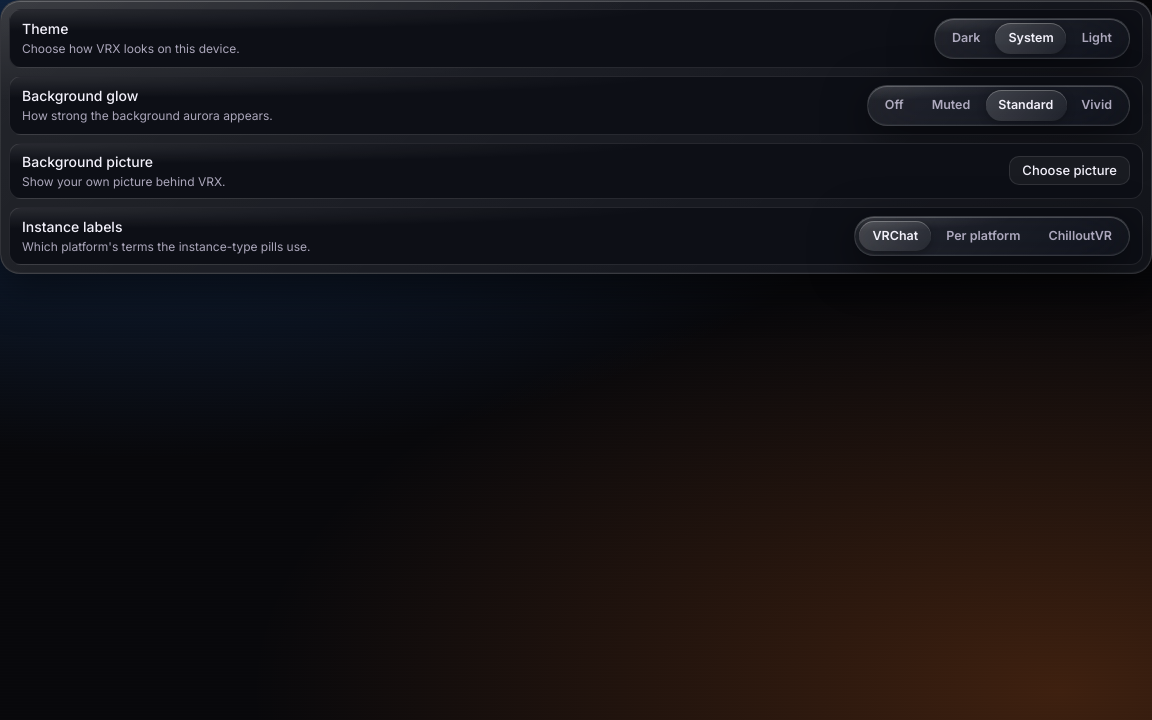
Test: SettingsView — background picture › explains a picture refused as too-tall
This screenshot has width=1152, height=720.
What coordinates should you click on to do the following:
click the button "Choose picture"
I would click on:
 (1070, 171)
Its box is [1009, 156, 1130, 185].
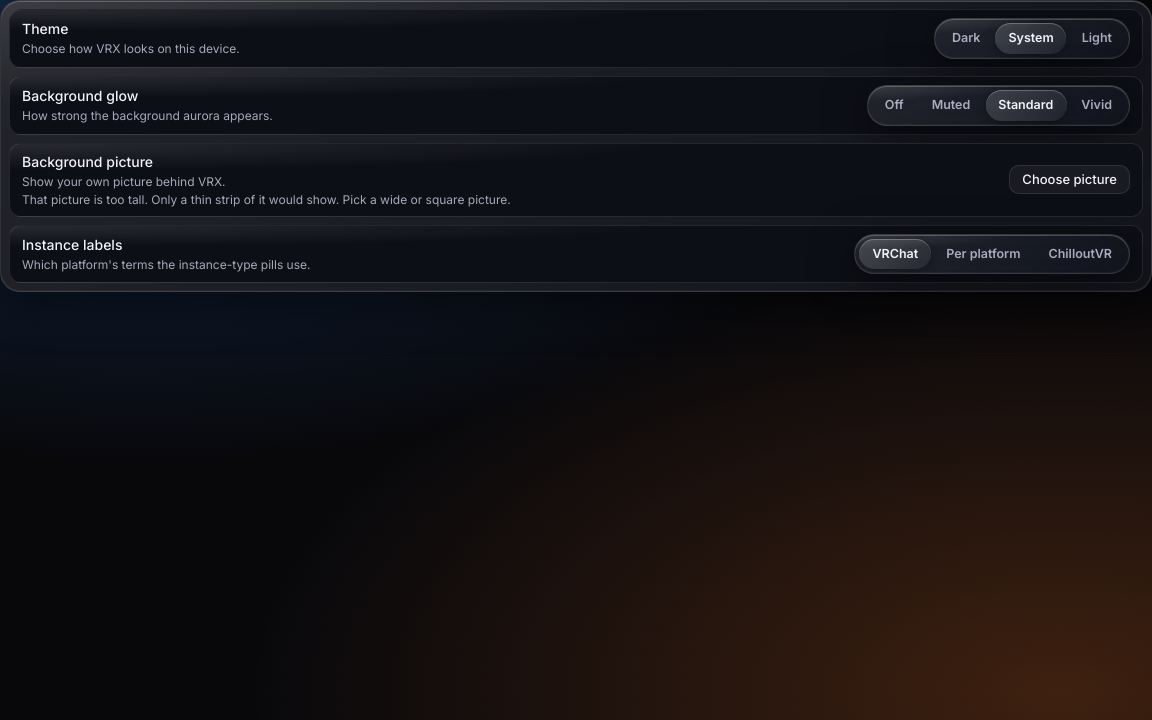
Check: the message shows "That picture is too tall. Only a thin strip of it would show. Pick a wide or square picture.", box [22, 192, 511, 206]
